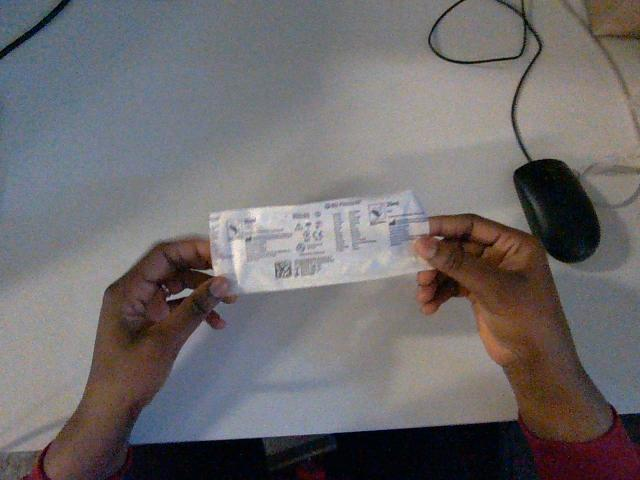syringe: (210, 191, 428, 292)
